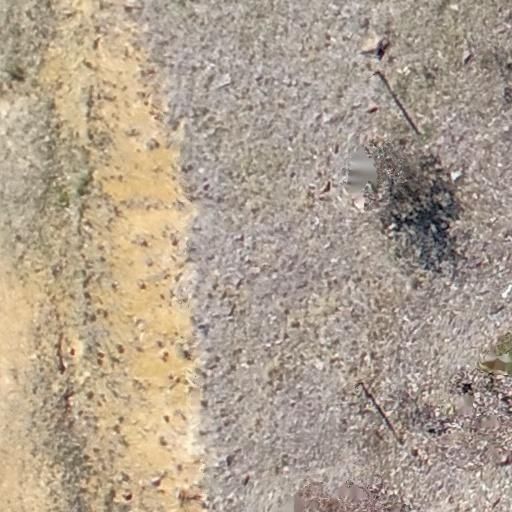stone: (364, 32, 386, 52), (363, 101, 378, 114), (459, 46, 470, 62)
